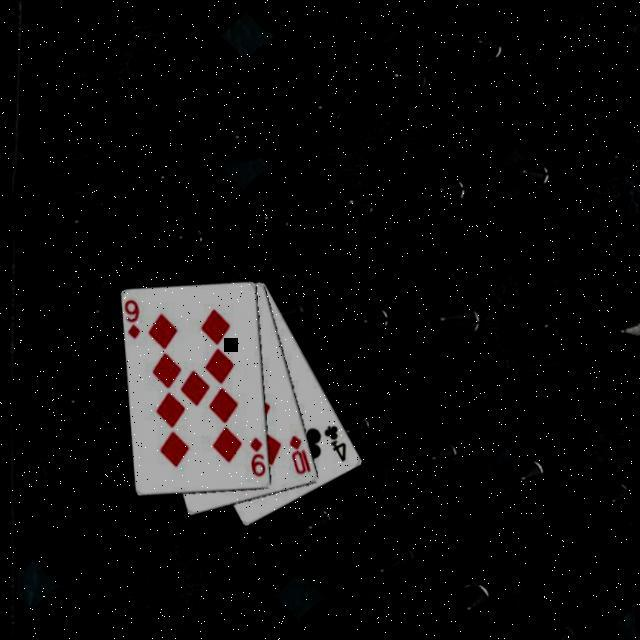10D: (288, 429, 316, 474)
4C: (322, 419, 352, 461)
9D: (248, 432, 270, 476), (124, 294, 146, 338)
